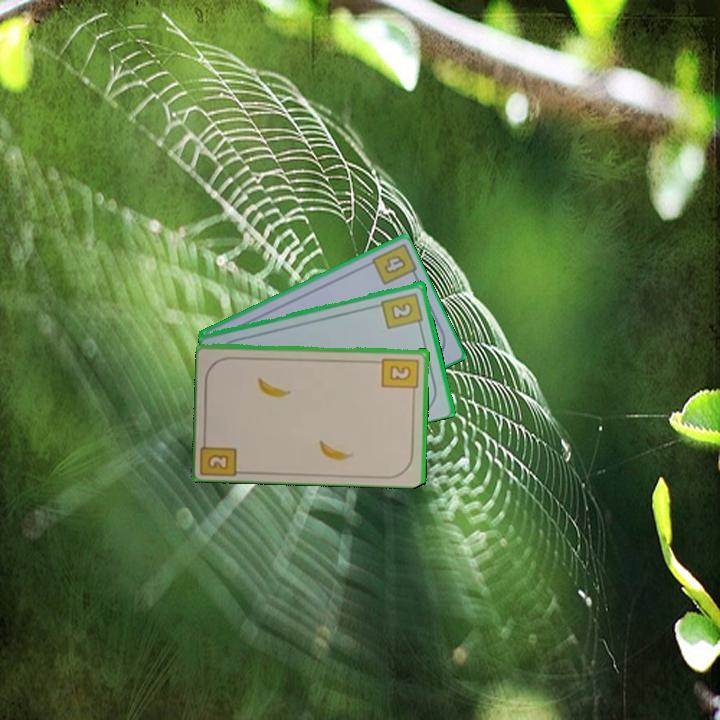2b: (378, 289, 426, 331), (199, 432, 241, 477), (379, 354, 422, 397)
4b: (381, 251, 409, 277)
